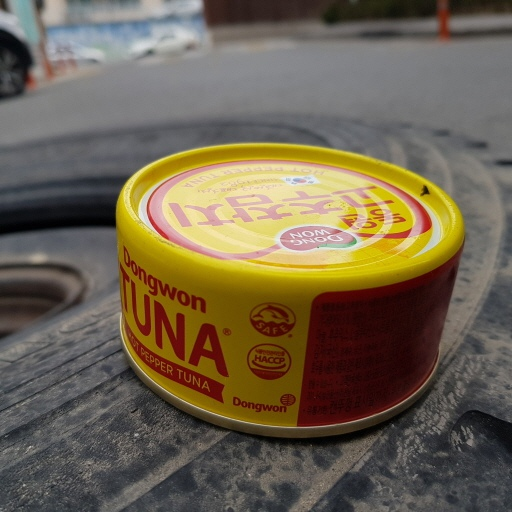Metal_1: (110, 137, 466, 438)
